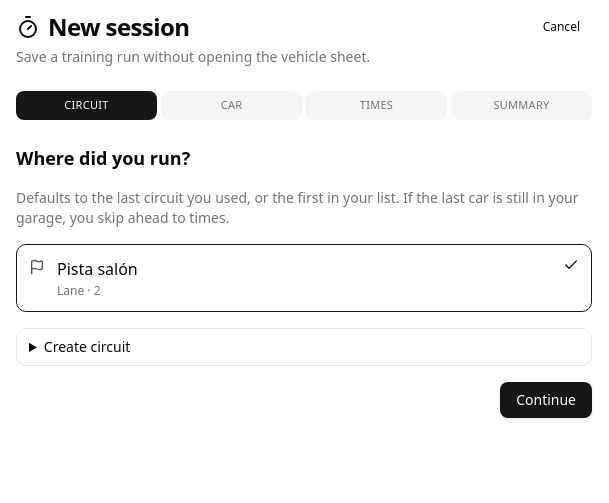
Test case: NewSession › sin vehículos no bloquea la app y ofrece alta/catálogo
Click the button with test id "session-continue-circuit".
click(546, 400)  # box 500,382 -> 592,418
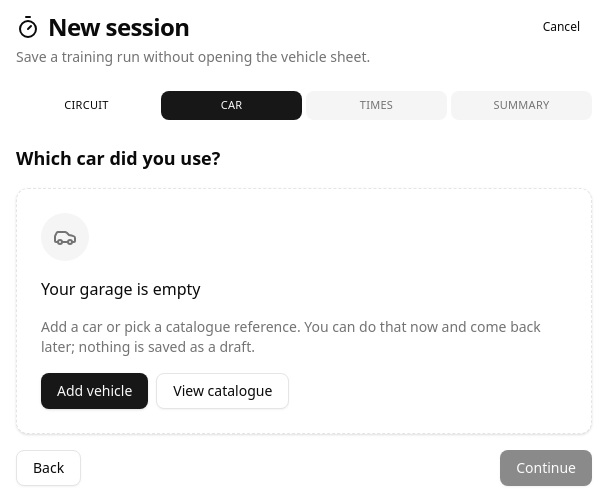
Expected: the text "Your garage is empty" is shown, 41,278 -> 200,300
